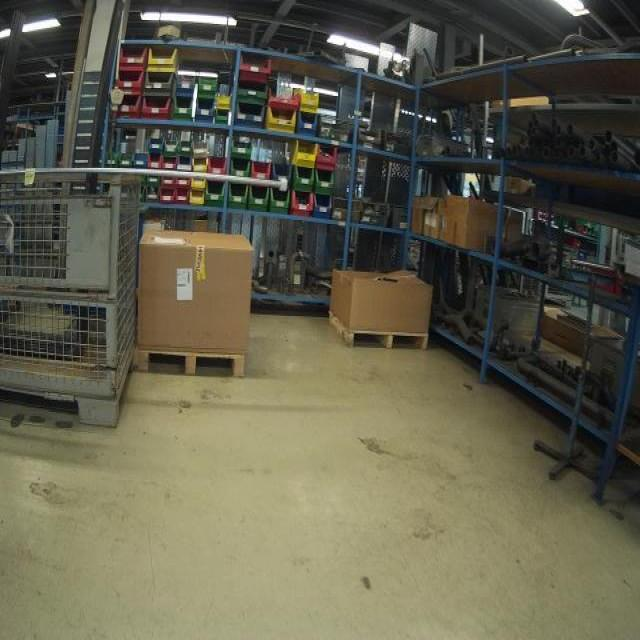pallet: (327, 310, 430, 353), (136, 346, 247, 379)
stillage: (2, 171, 141, 437)
